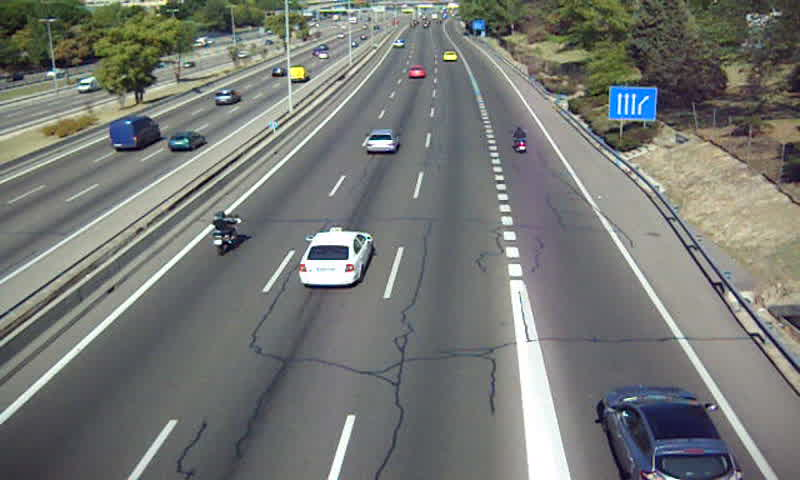car: (603, 386, 742, 480), (298, 230, 372, 285), (364, 130, 400, 155), (410, 66, 428, 80), (442, 50, 460, 61)
motorcycle: (210, 211, 242, 256), (512, 125, 528, 153)
